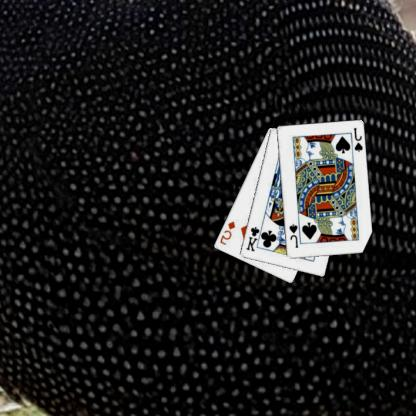5D: (219, 219, 238, 246)
JS: (352, 126, 366, 153), (288, 222, 301, 249)
KC: (245, 223, 266, 253)
